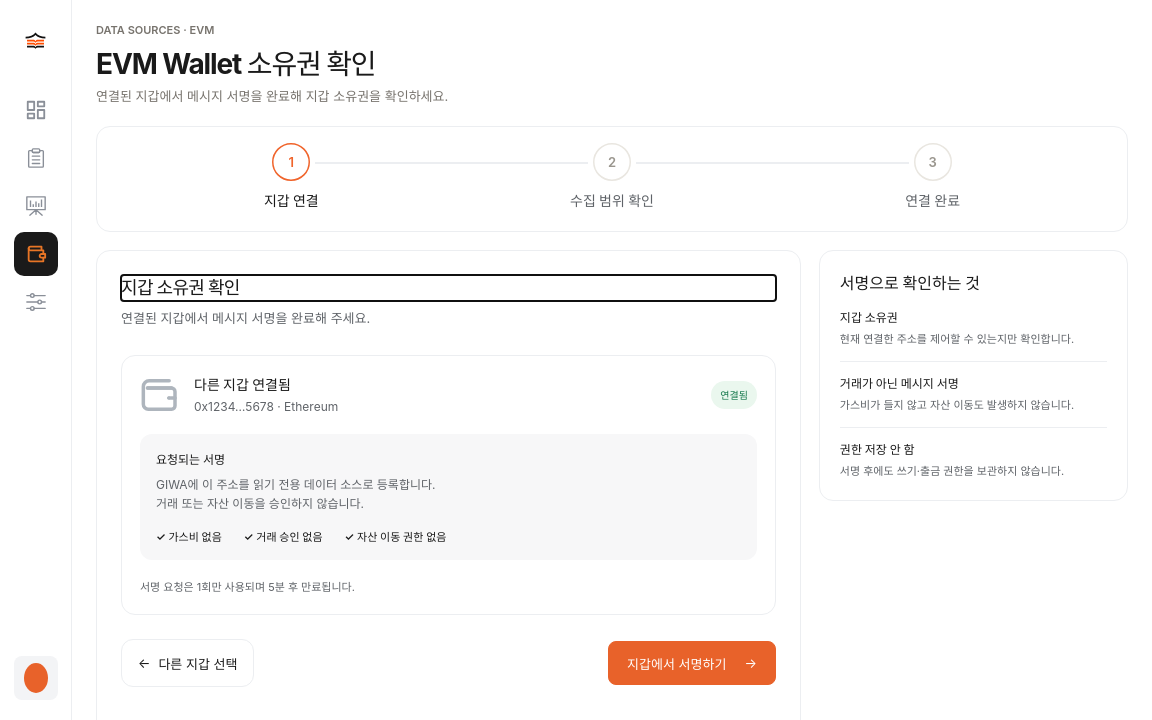
it: EvmWalletConnectionPage › keeps the same idempotency key when backfill start is retried
Expected: the heading "지갑 소유권 확인" is shown, left=121, top=277, right=240, bottom=298
Click the button "지갑에서 서명하기 →".
click(692, 663)  # box left=608, top=641, right=776, bottom=685
(page scrolled)
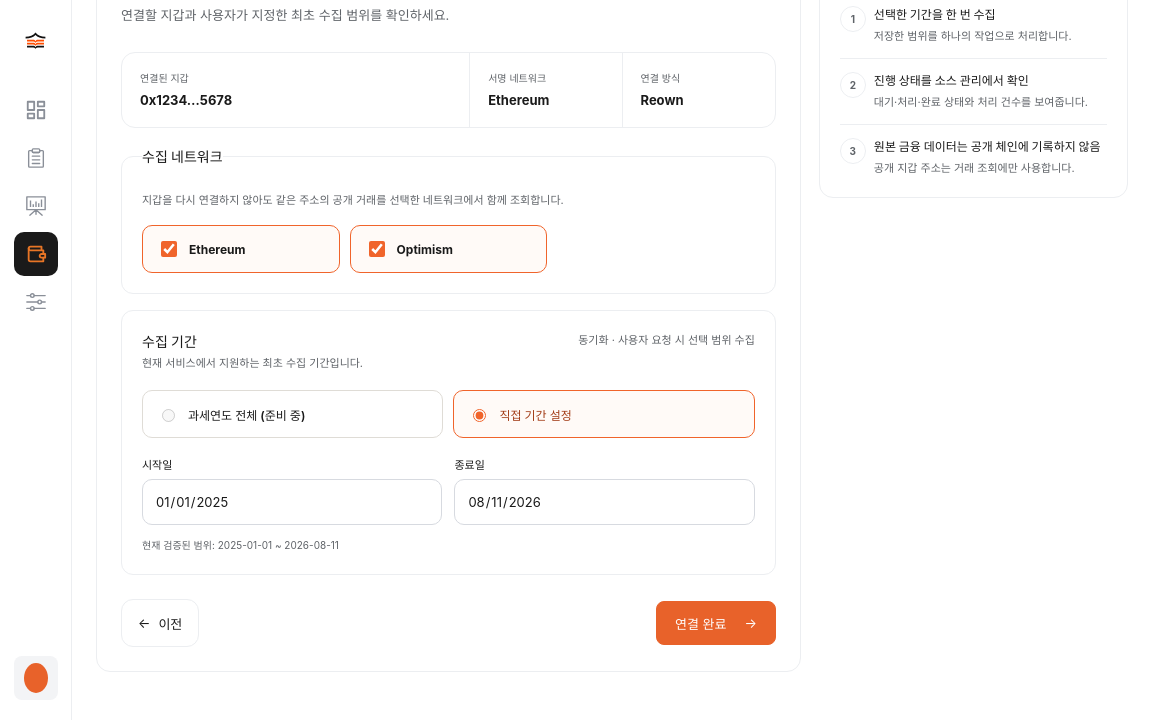
Click the button "연결 완료 →".
click(716, 623)  # box left=656, top=601, right=776, bottom=645
(page scrolled)
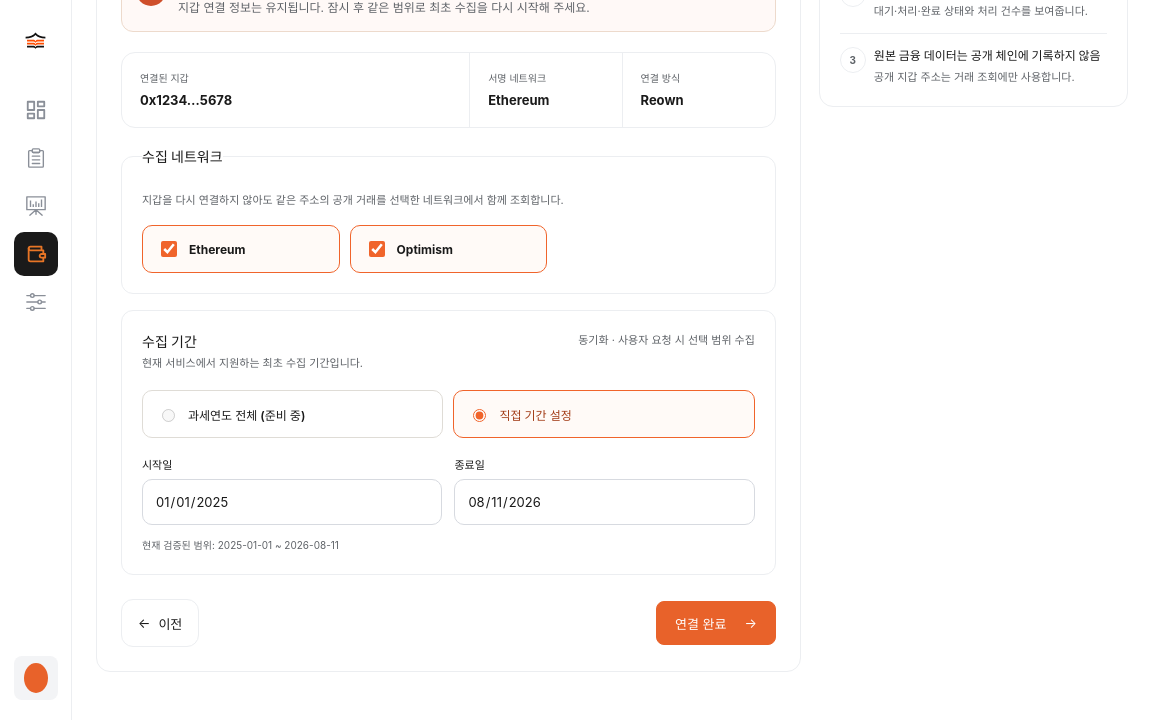
Click the button "연결 완료 →".
click(716, 623)  # box left=656, top=601, right=776, bottom=645
(page scrolled)
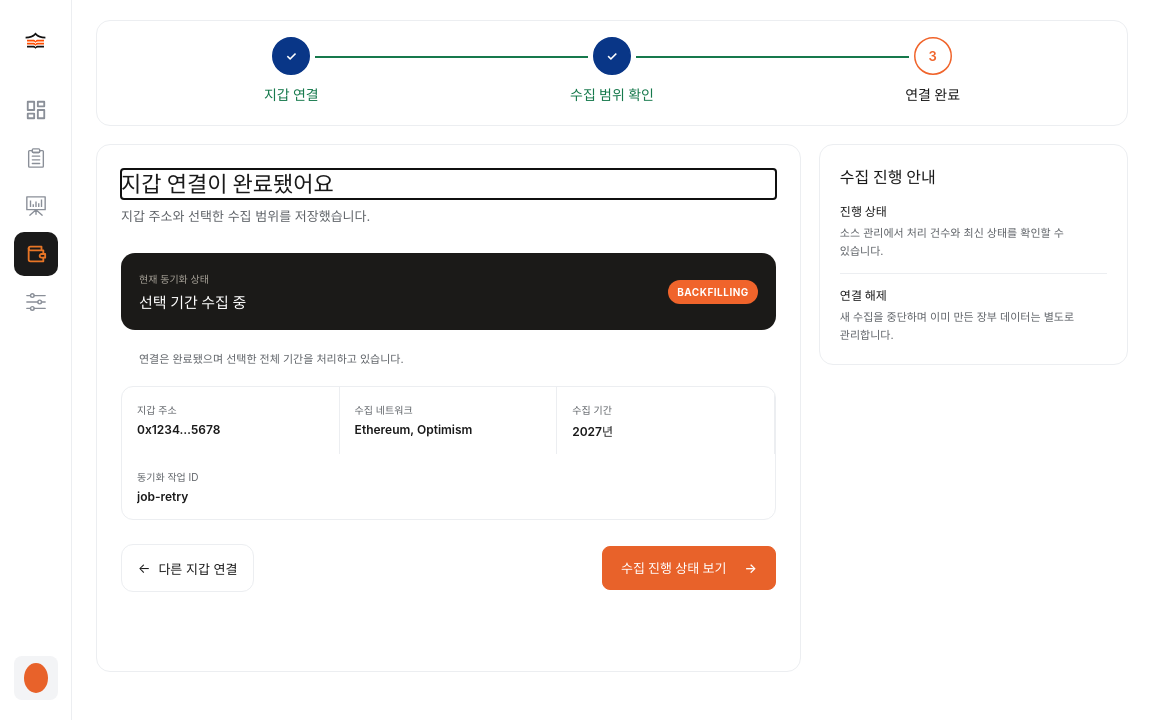
Now the heading "지갑 연결이 완료됐어요" is shown, box left=121, top=171, right=334, bottom=197
